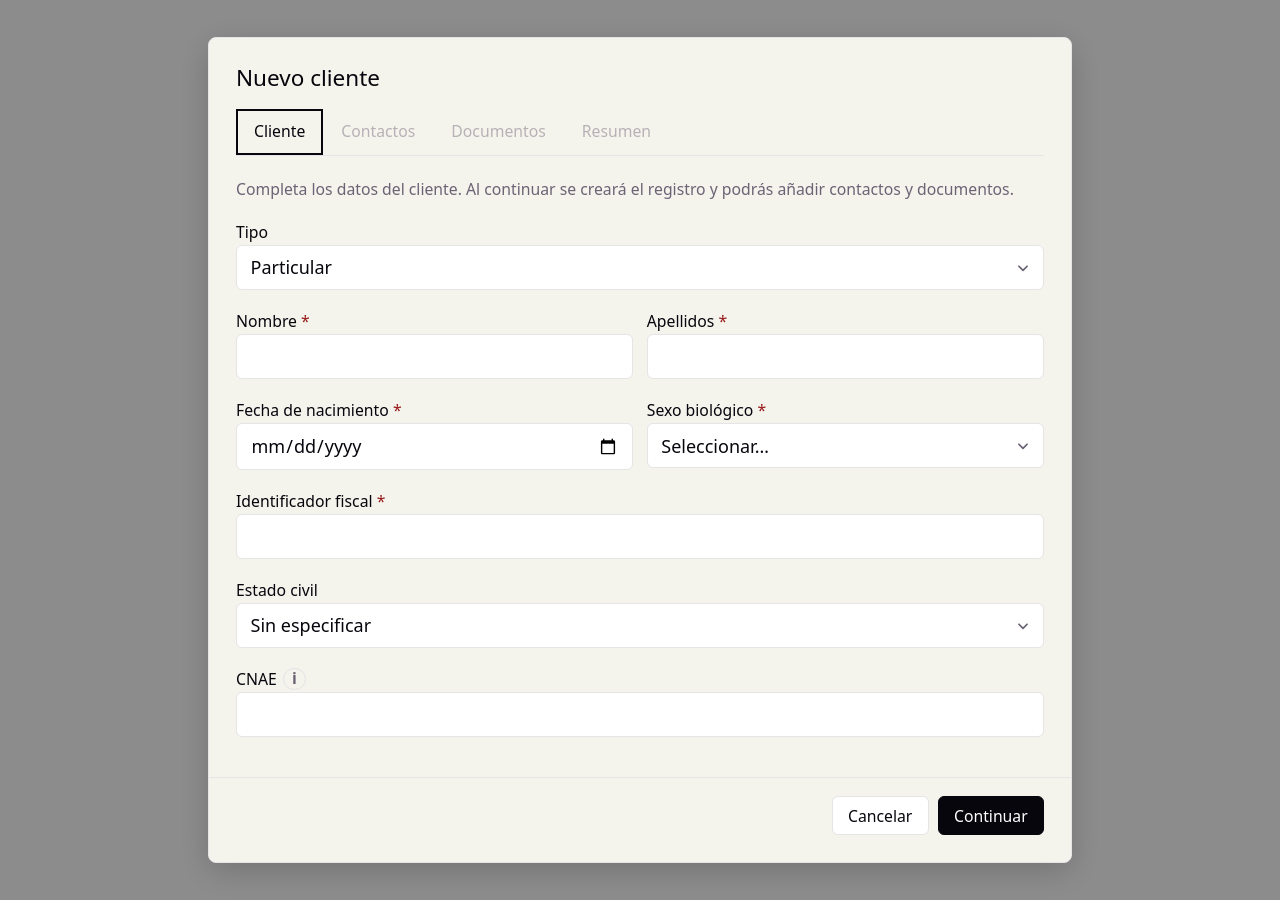
Test: CustomerOnboardingWizard › shows phone validation under the phone field on the contacts tab
Type "Juan" into the field labelled "Nombre *" at (435, 357), box [236,334,633,379]
Type "Pérez" into the field labelled "Apellidos *" at (845, 357), box [647,334,1044,379]
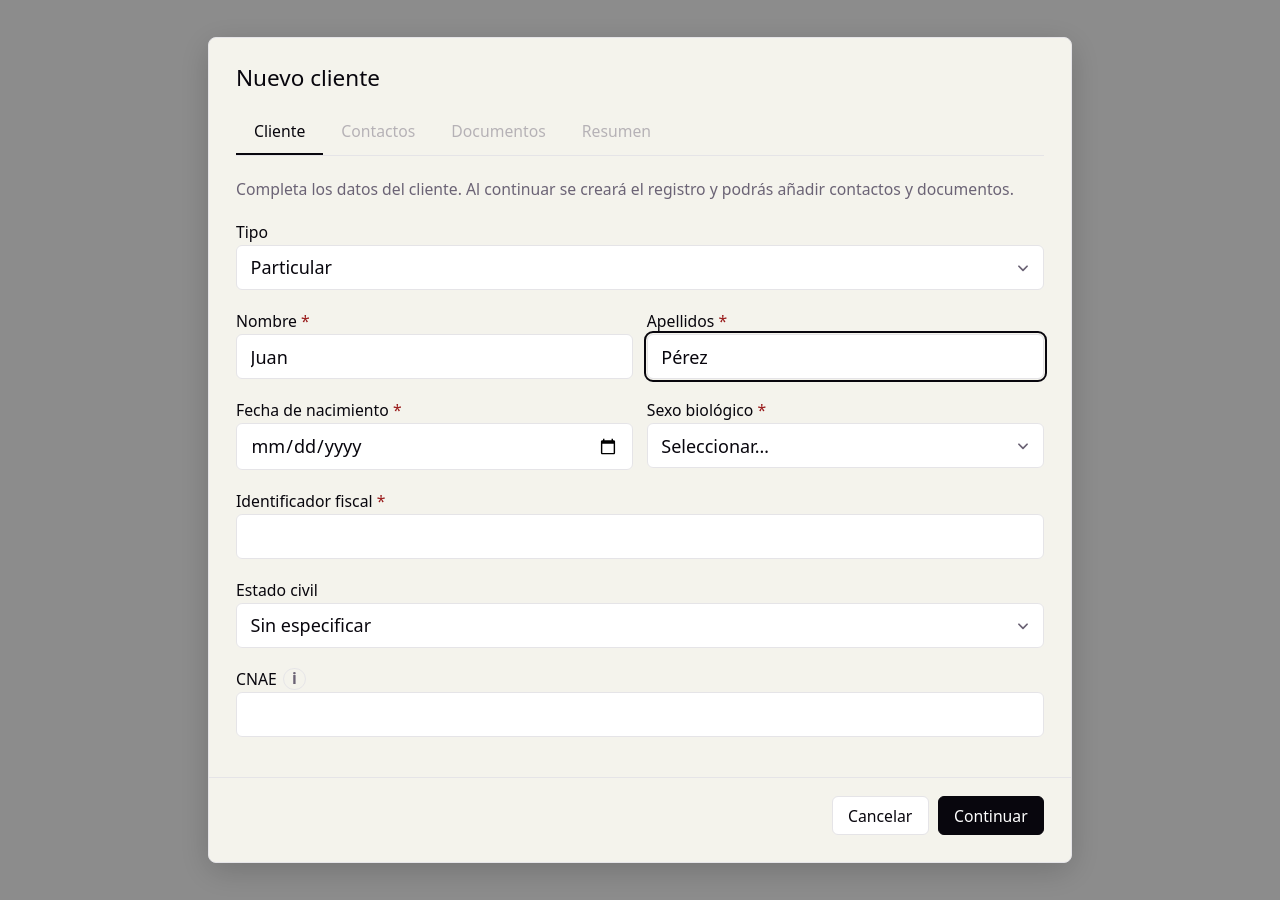
Type "1985-03-10" into the date field labelled "Fecha de nacimiento *" at (435, 447), box [236,423,633,470]
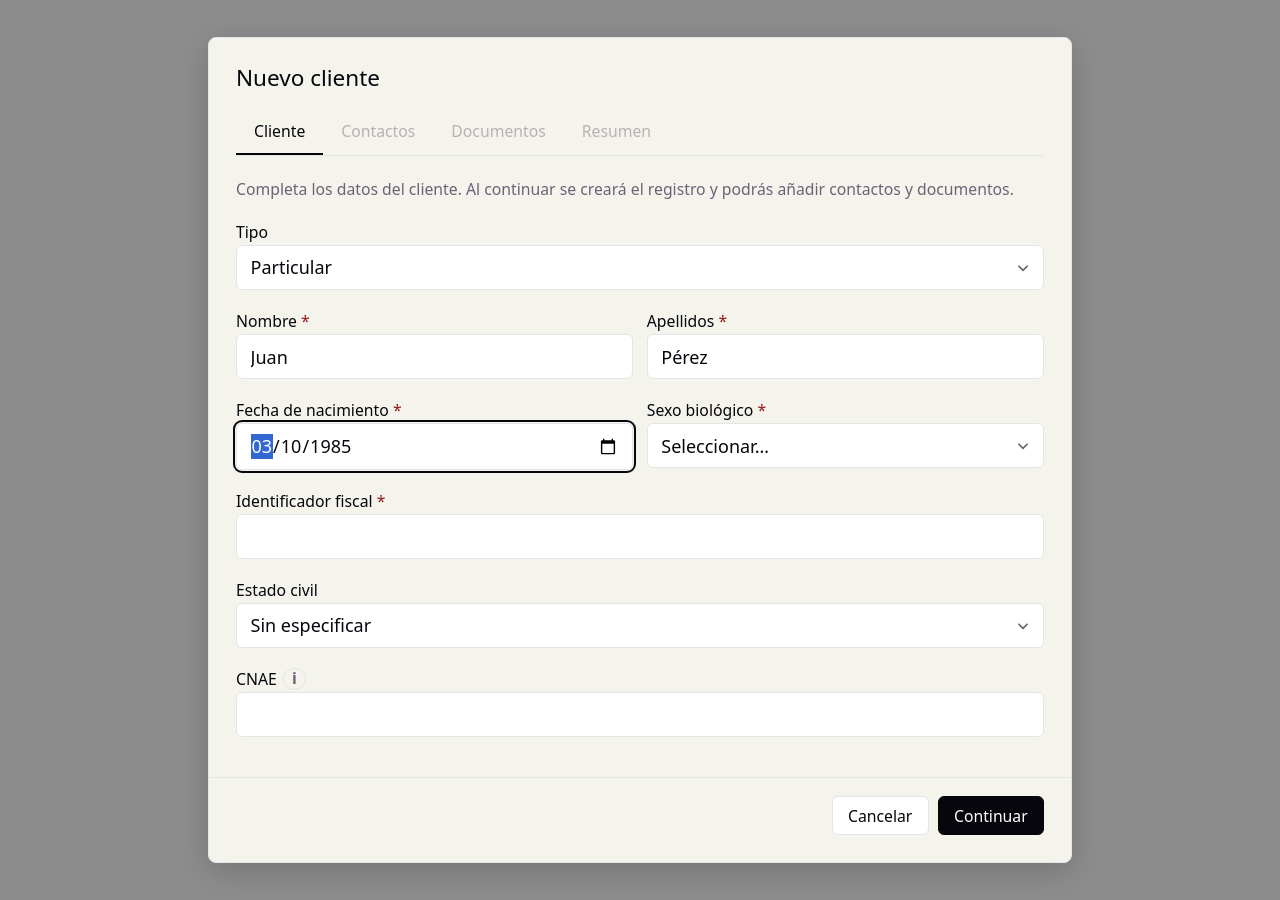
Select "Masculino" in the dropdown labelled "Sexo biológico *" at (845, 446), box [647,423,1044,468]
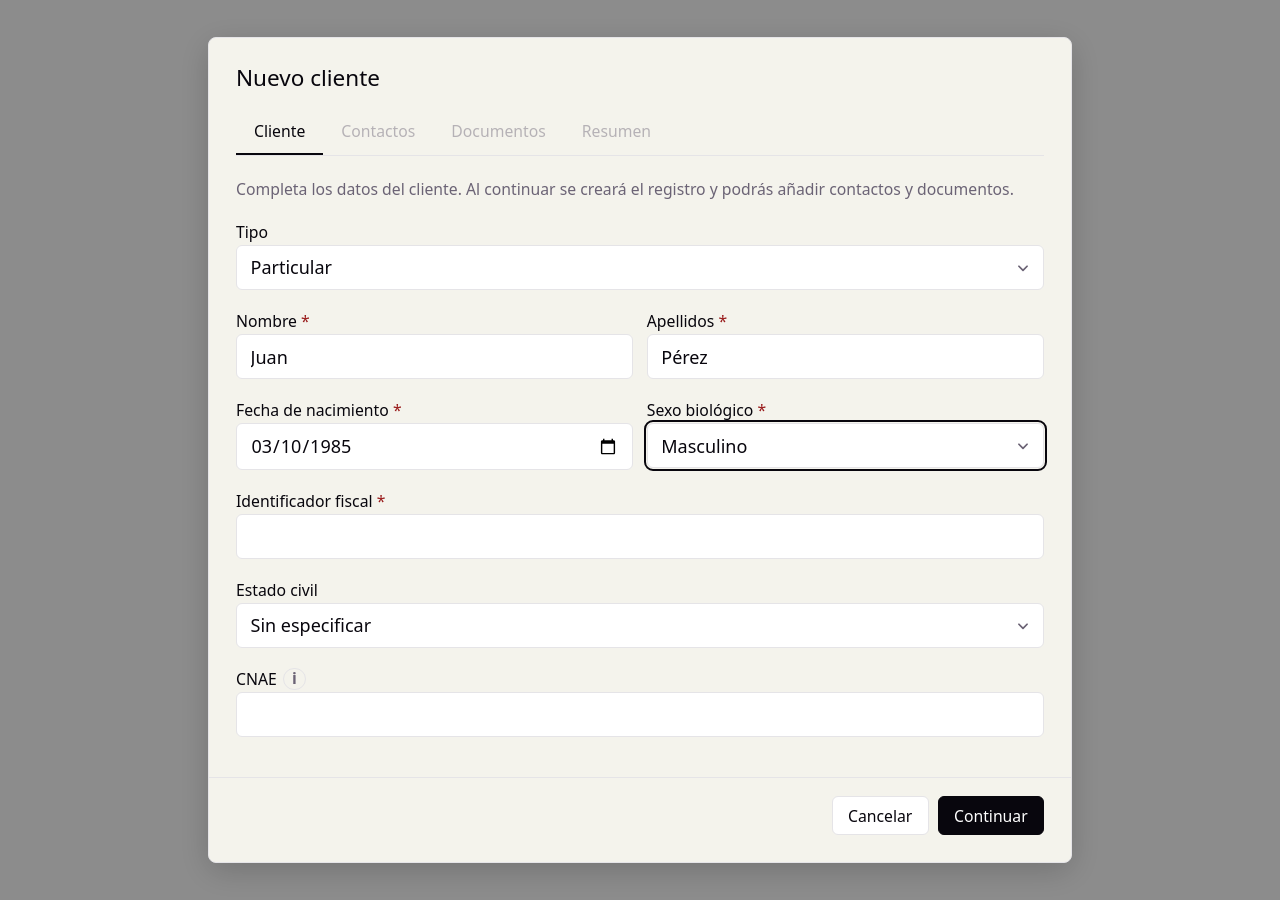
Type "12345678Z" into the field labelled "Identificador fiscal *" at (640, 536), box [236,514,1044,559]
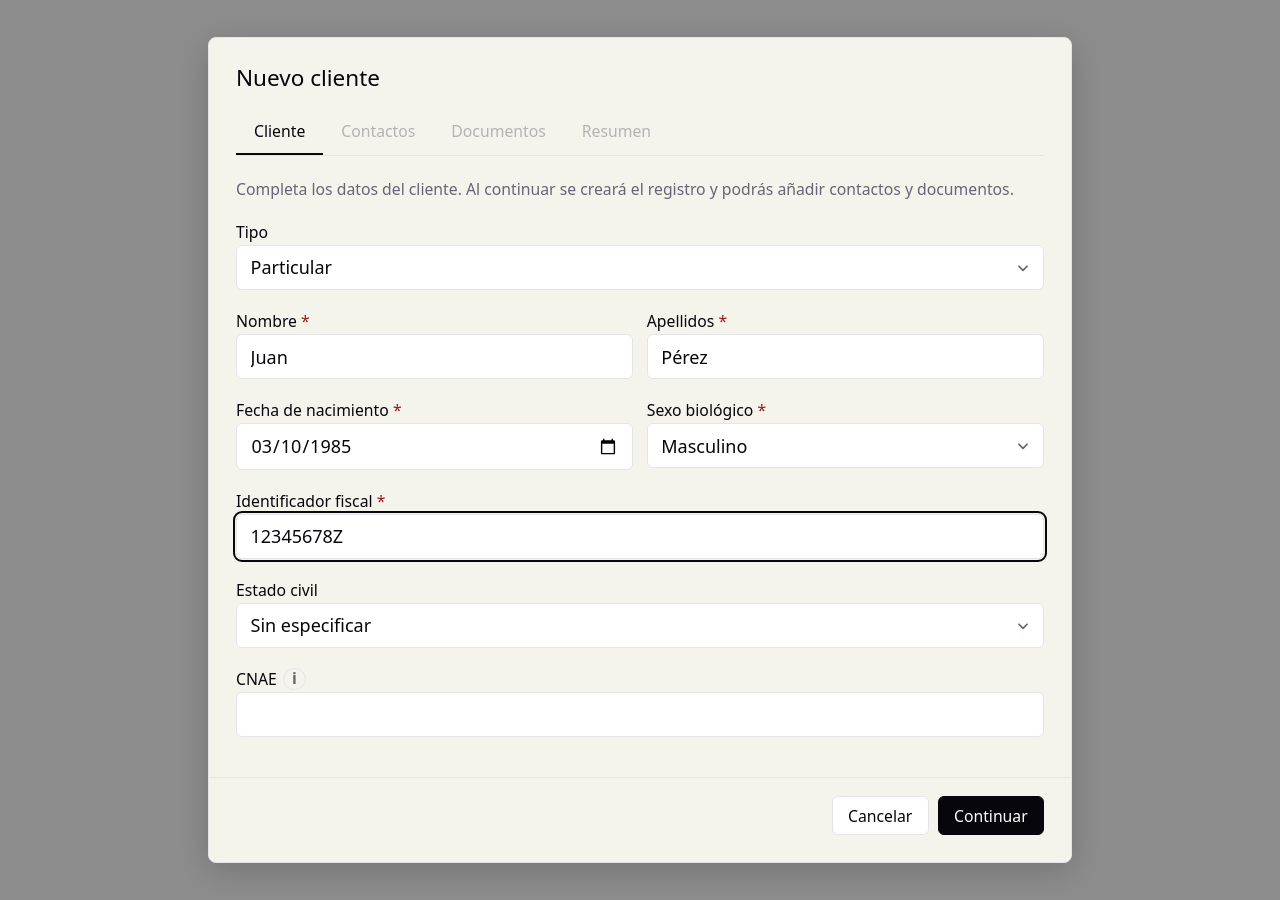
Click the button "Continuar" at (991, 816), box [938,796,1044,835]
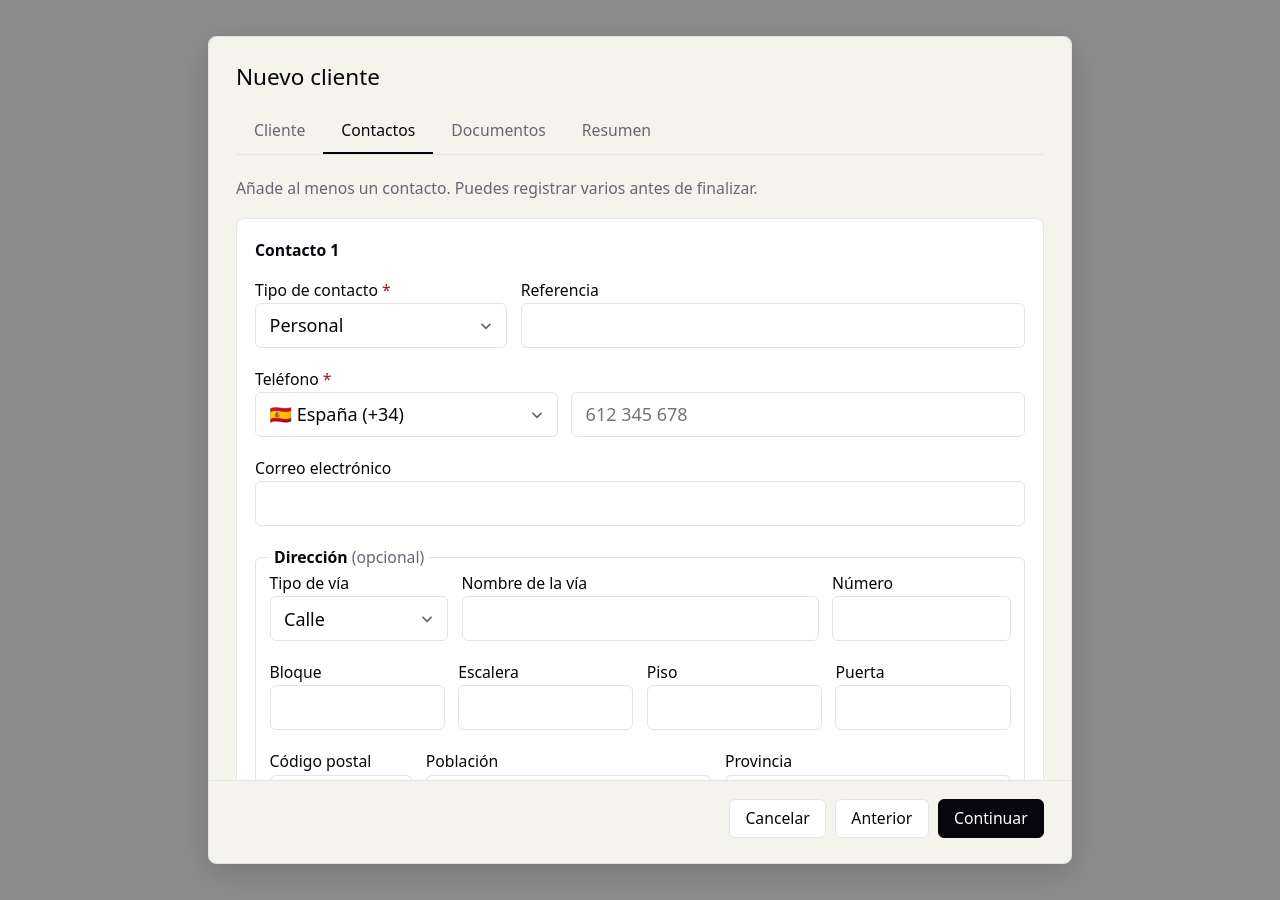
Expected: the text "Añade al menos un contacto" is shown, [236,177,758,199]
Click the button "Continuar" at (991, 819), box [938,799,1044,838]
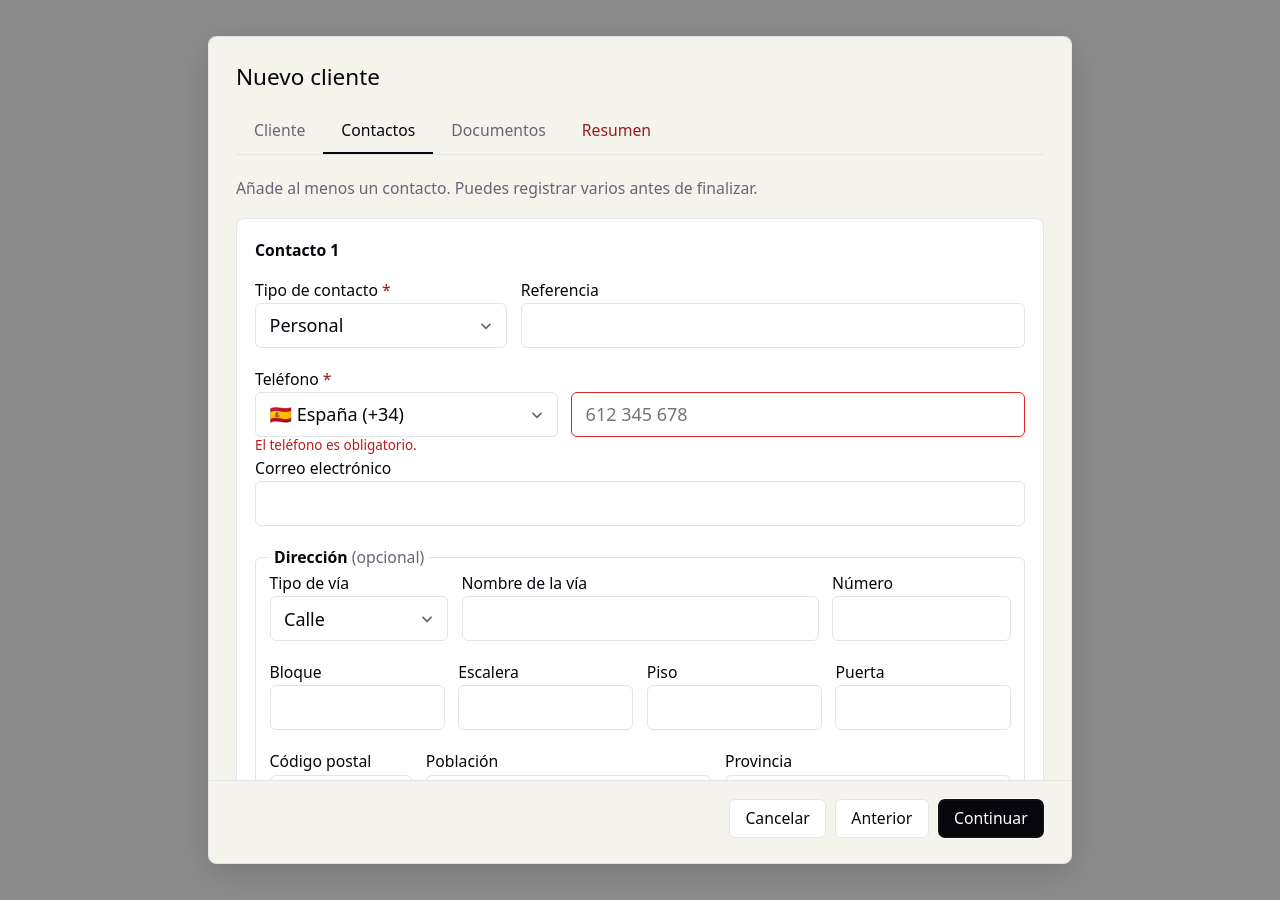
Expected: the element labelled "Teléfono * El teléfono es obligatorio." is shown, [255,366,1025,455]
Expected: the text "El teléfono es obligatorio." is shown, [255,436,417,454]
